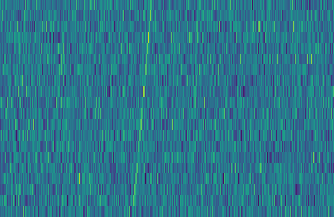signal: (128, 0, 156, 217)
